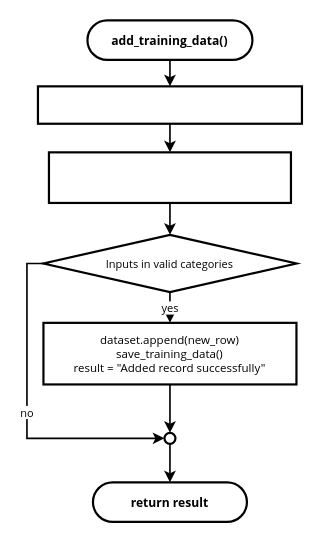
This 322x541 diagram has some shape labels left out. The shapes that lost their labels are listed below. From the top down, each one's centre as x and y in pixels, then its label:
(x=169, y=104): result = "Invalid input. Not added."
(x=169, y=177): Input weather, time_of_week, time_of_day, traffic_jam
